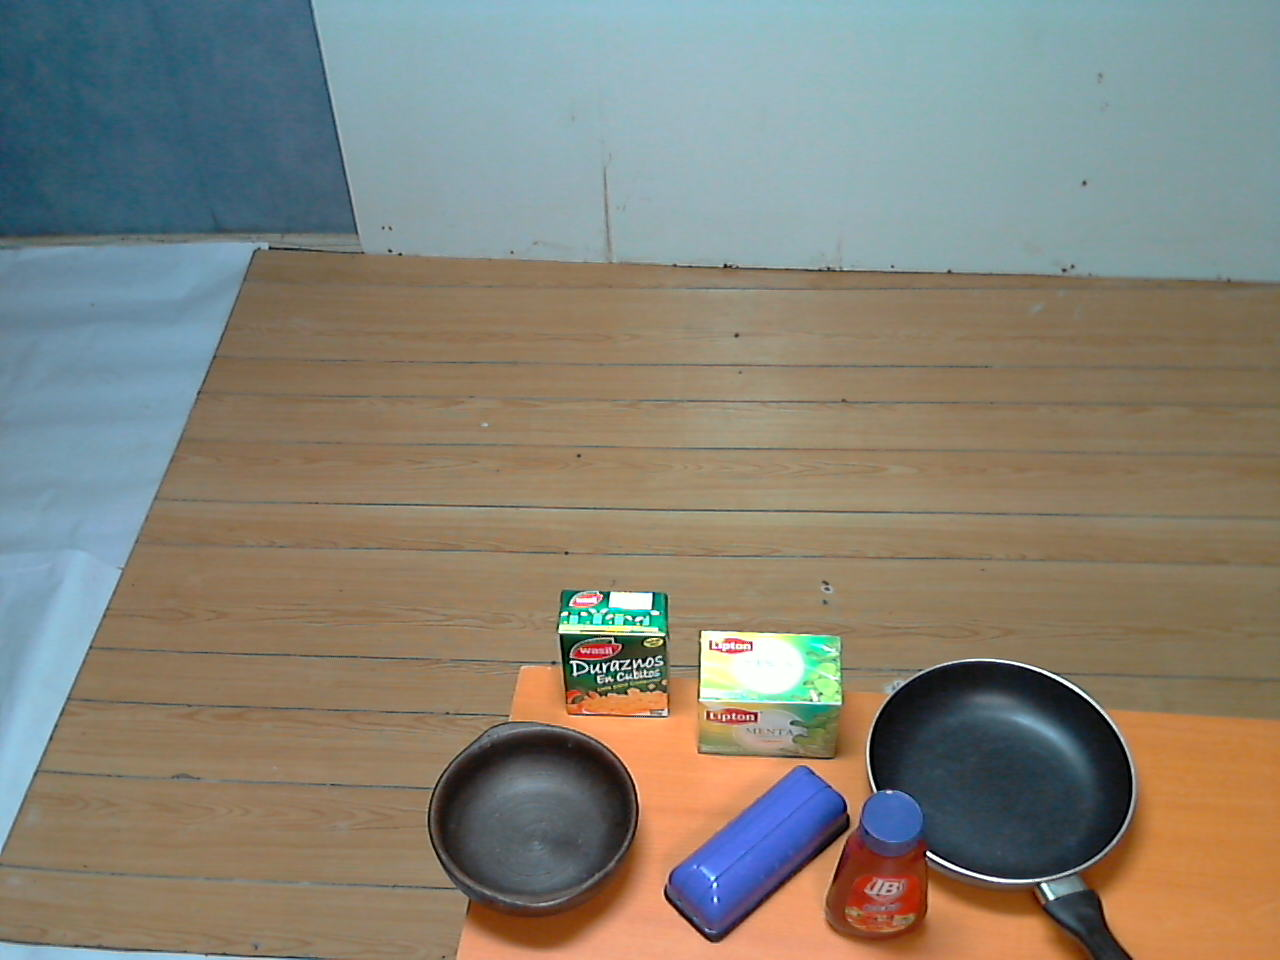borrador: (655, 756, 858, 949)
durazno: (552, 578, 682, 729)
greda: (420, 713, 648, 932)
ketchup: (814, 784, 949, 960)
sarten: (836, 648, 1173, 960)
te: (685, 623, 854, 772)
